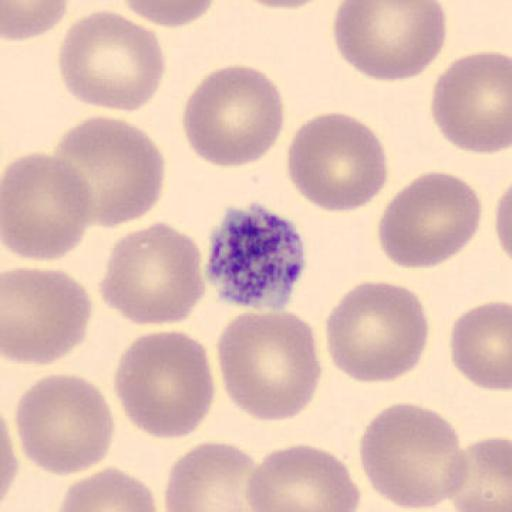Platelet: (203, 200, 310, 310)
RBC: (50, 113, 166, 231), (358, 399, 470, 511), (215, 308, 323, 423), (98, 220, 206, 329), (57, 8, 168, 114), (112, 328, 216, 441), (324, 278, 430, 384), (180, 64, 284, 170), (285, 110, 389, 214), (13, 372, 115, 477), (377, 170, 483, 270), (2, 150, 95, 262), (332, 0, 449, 83), (2, 264, 93, 368), (429, 49, 512, 155), (244, 441, 362, 512), (162, 438, 265, 512), (449, 299, 512, 394), (448, 434, 512, 512), (55, 465, 160, 512), (118, 0, 218, 30), (2, 0, 70, 42), (0, 384, 20, 510), (492, 177, 512, 270), (0, 416, 20, 508), (493, 184, 512, 261), (236, 0, 334, 10)
